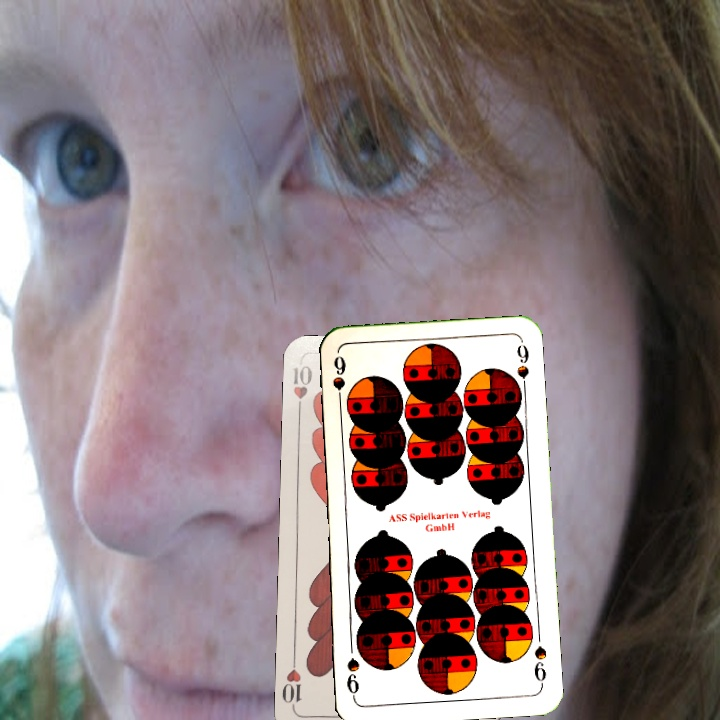H10: (289, 360, 315, 419)
S9: (328, 351, 348, 410), (529, 642, 550, 689)
